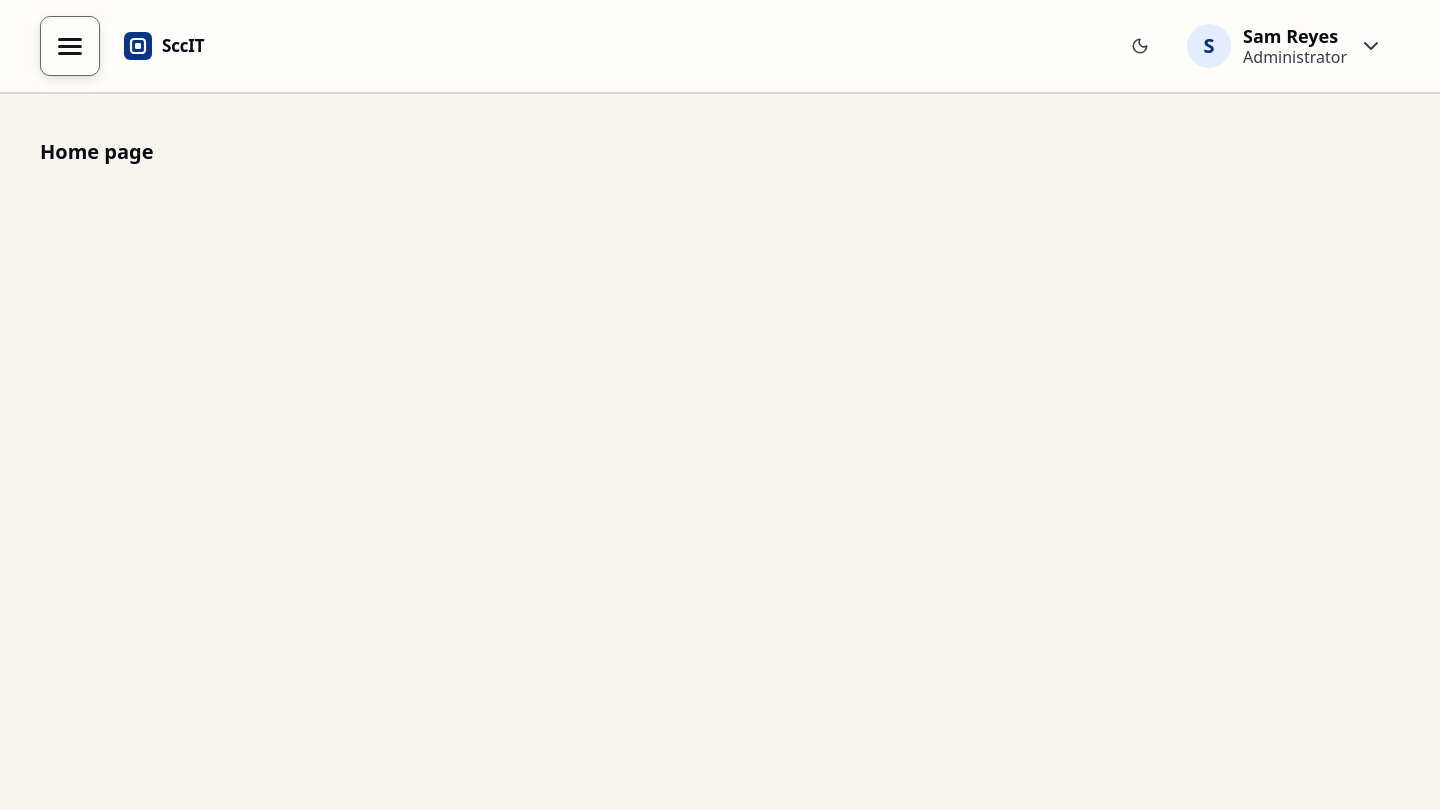
Scenario: the navigation inside it › prints no heading for a group whose links were all withheld
The width and height of the screenshot is (1440, 810).
Click the button named "open navigation menu" at (70, 46), box [40,16,100,76]
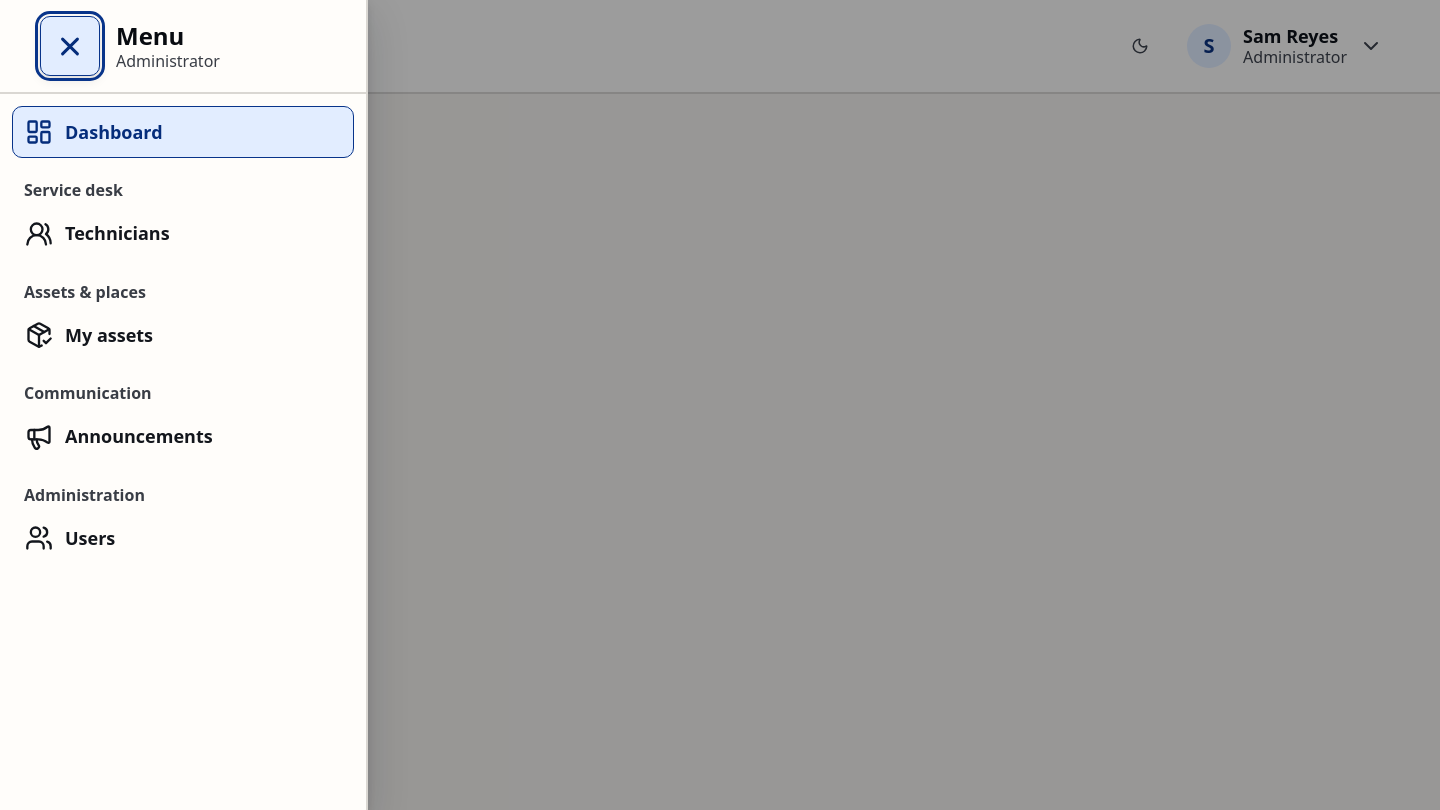
Expected: the text "Service desk" is shown, [24,179,123,201]
